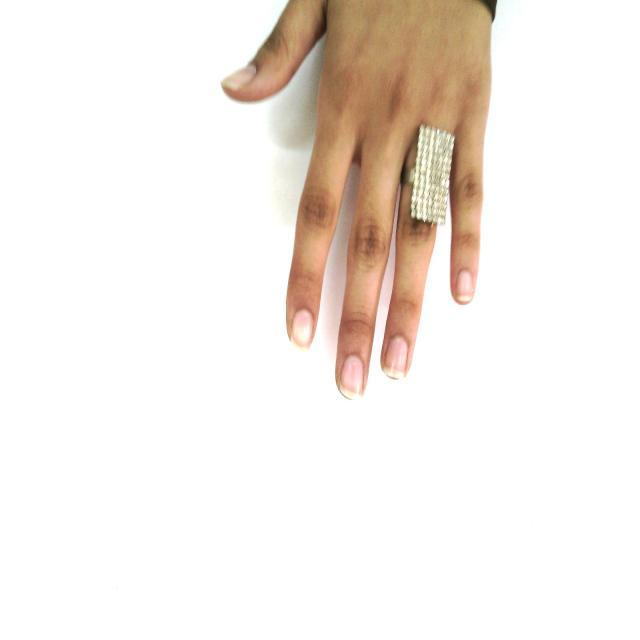Fingernail: (383, 337, 407, 378), (341, 356, 363, 399), (222, 64, 256, 88), (292, 310, 313, 347), (456, 271, 473, 298)
